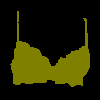reggiseno: (10, 10, 90, 87)
